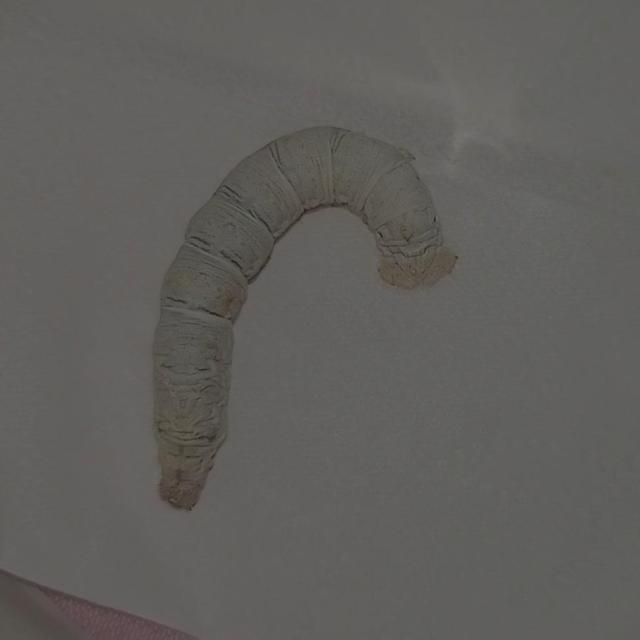Healthy: (128, 92, 479, 534)
